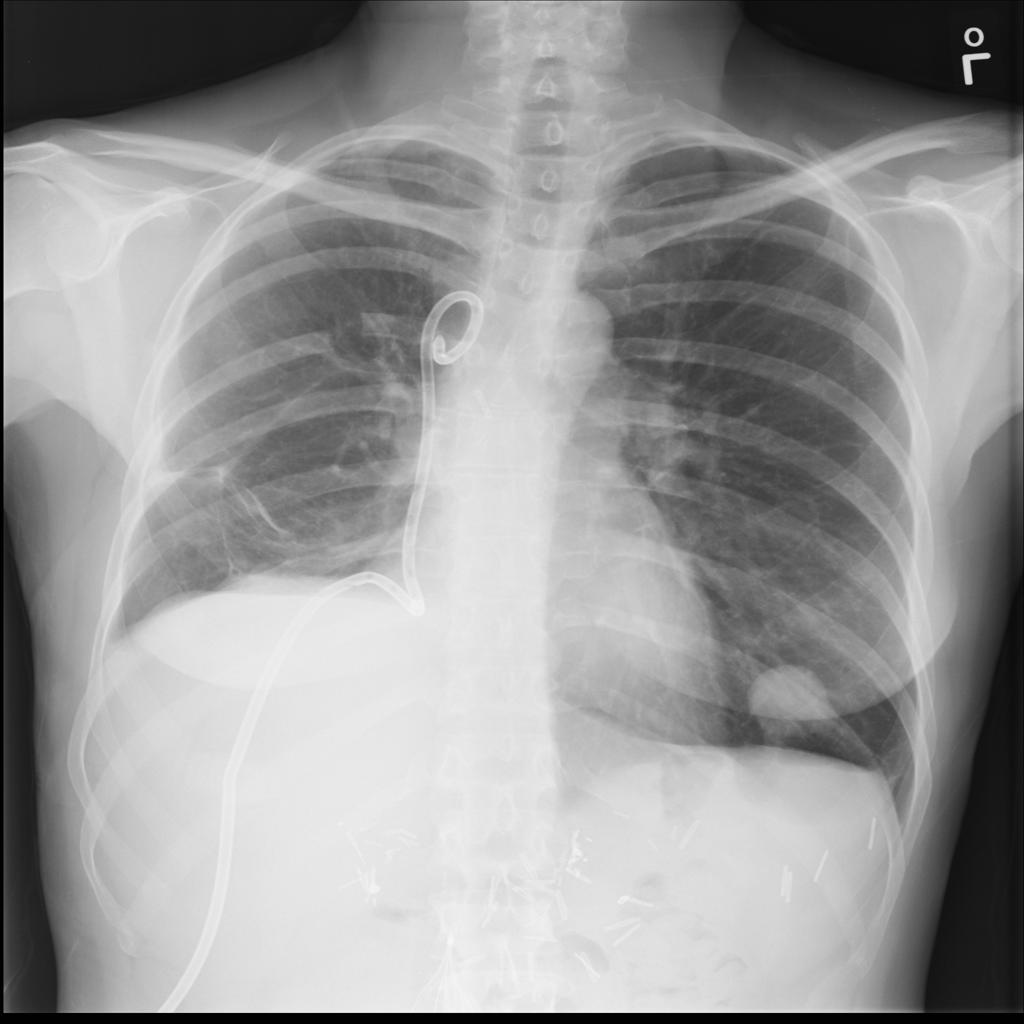nodule: (725, 652, 855, 755)
